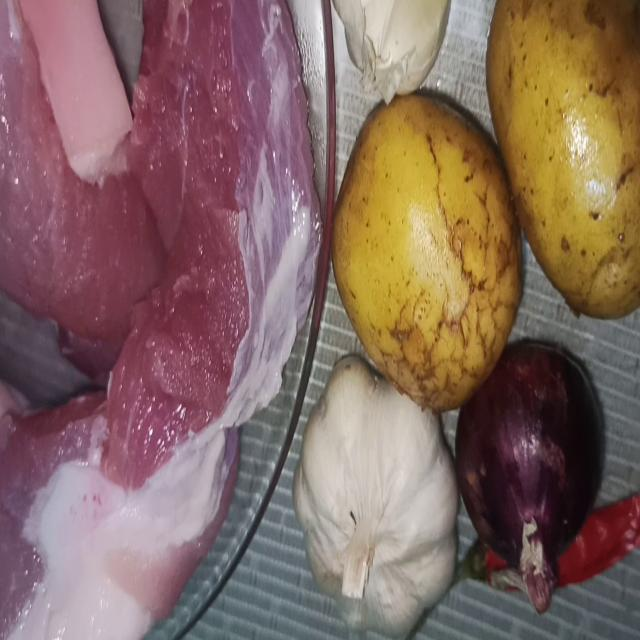chili_pepper: (438, 481, 640, 607)
garlic: (294, 379, 464, 635), (313, 0, 478, 112)
onion: (451, 342, 621, 594)
pork: (138, 0, 328, 391), (0, 384, 265, 640), (0, 0, 151, 356)
potato: (324, 86, 515, 424), (480, 0, 640, 364)
